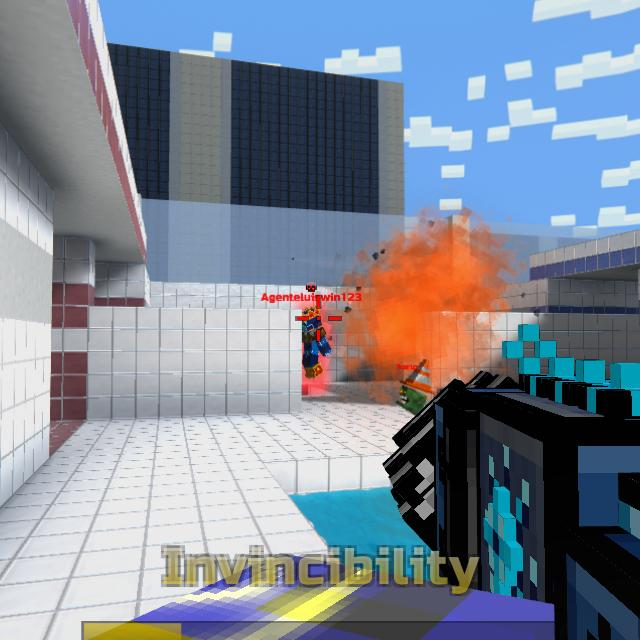Enemy: (302, 309, 333, 379)
